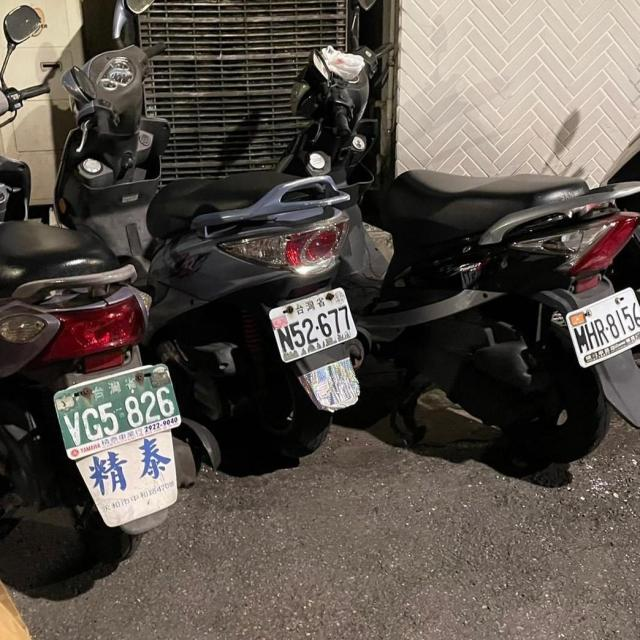W: (45, 358, 189, 464), (266, 276, 369, 364), (560, 280, 640, 371)
